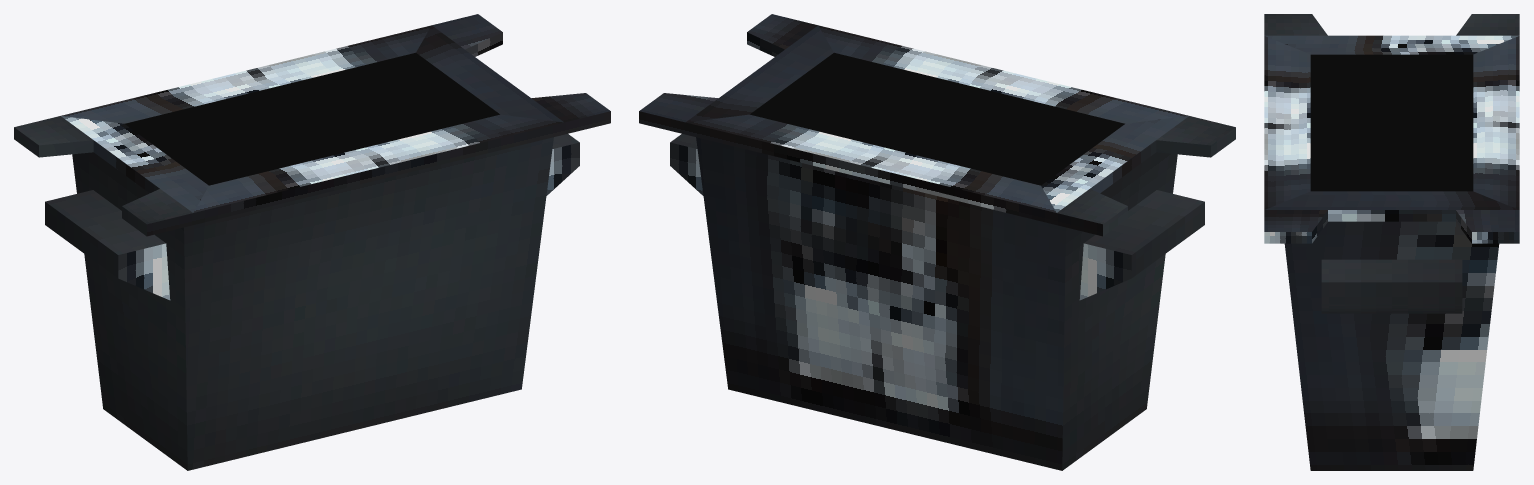
File: Arcade02.obj
3 renders of one model, left to right at view 1: azimuth 30°, elevation 25°; view 2: azimuth 150°, elevation 25°; view 3: azimuth 270°, elevation 25°, orthographic. The views are drawn at different scales.
Parts seen in each view (by area): view 1: Arcade01; view 2: Arcade01; view 3: Arcade01.
Part boxes in pixels (x1,y1,x2,y2): Arcade01: (14,14,610,470); Arcade01: (639,14,1235,470); Arcade01: (1264,14,1519,470).
Size of the model in its own units: 2 by 1.15 by 0.991.
